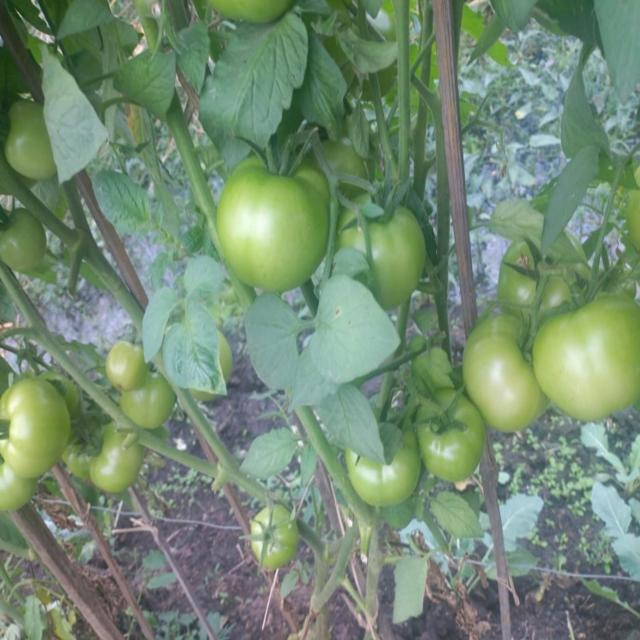tomato: (213, 156, 327, 297), (540, 293, 638, 416), (463, 313, 553, 427), (357, 209, 427, 310), (1, 381, 68, 475), (415, 390, 484, 481), (505, 242, 586, 300), (9, 103, 59, 187), (345, 454, 425, 506), (92, 421, 141, 496), (250, 501, 299, 569), (1, 208, 49, 276), (123, 374, 179, 428), (202, 1, 306, 26), (311, 129, 360, 176), (1, 460, 41, 517), (109, 341, 145, 390)
